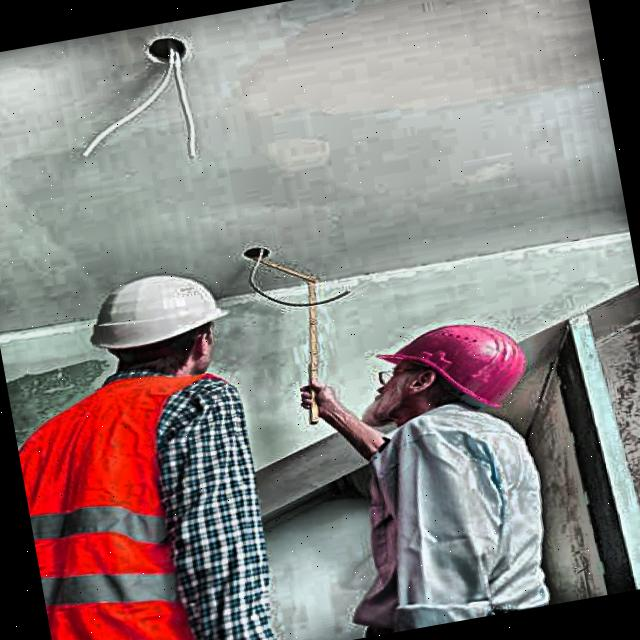helmet: (63, 248, 260, 406), (360, 294, 561, 436)
